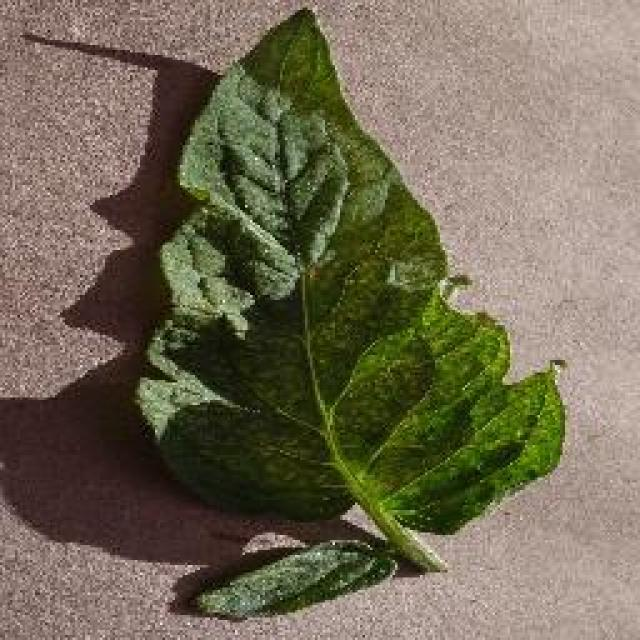Tomato___Spider_mites Two-spotted_spider_mite: (135, 10, 562, 612)
